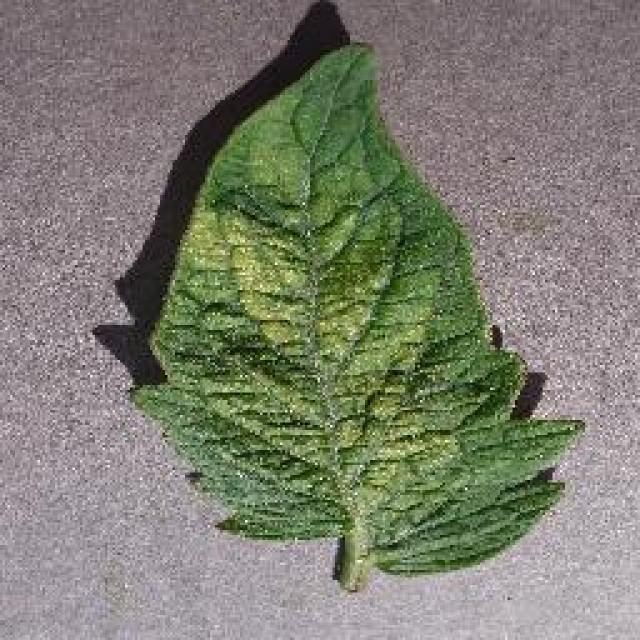Tomato spider mites leaf: (129, 41, 587, 578)
